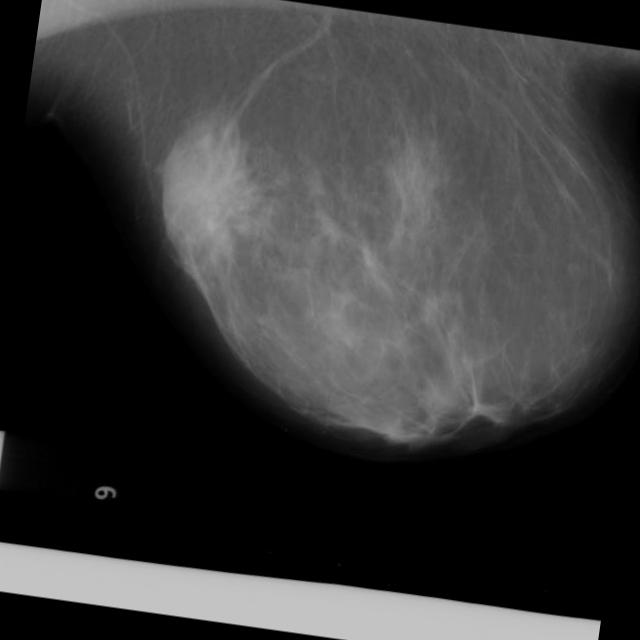ARCH: (198, 164, 286, 251)
